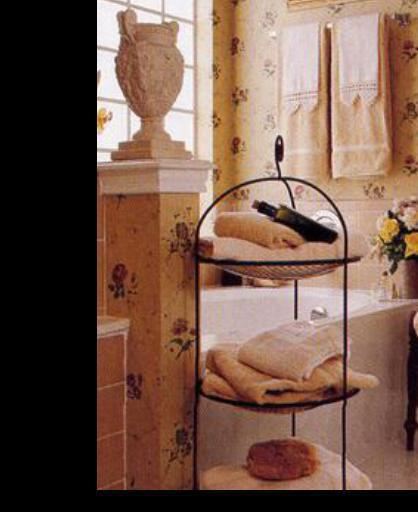Ducha: (0, 0, 91, 512)
